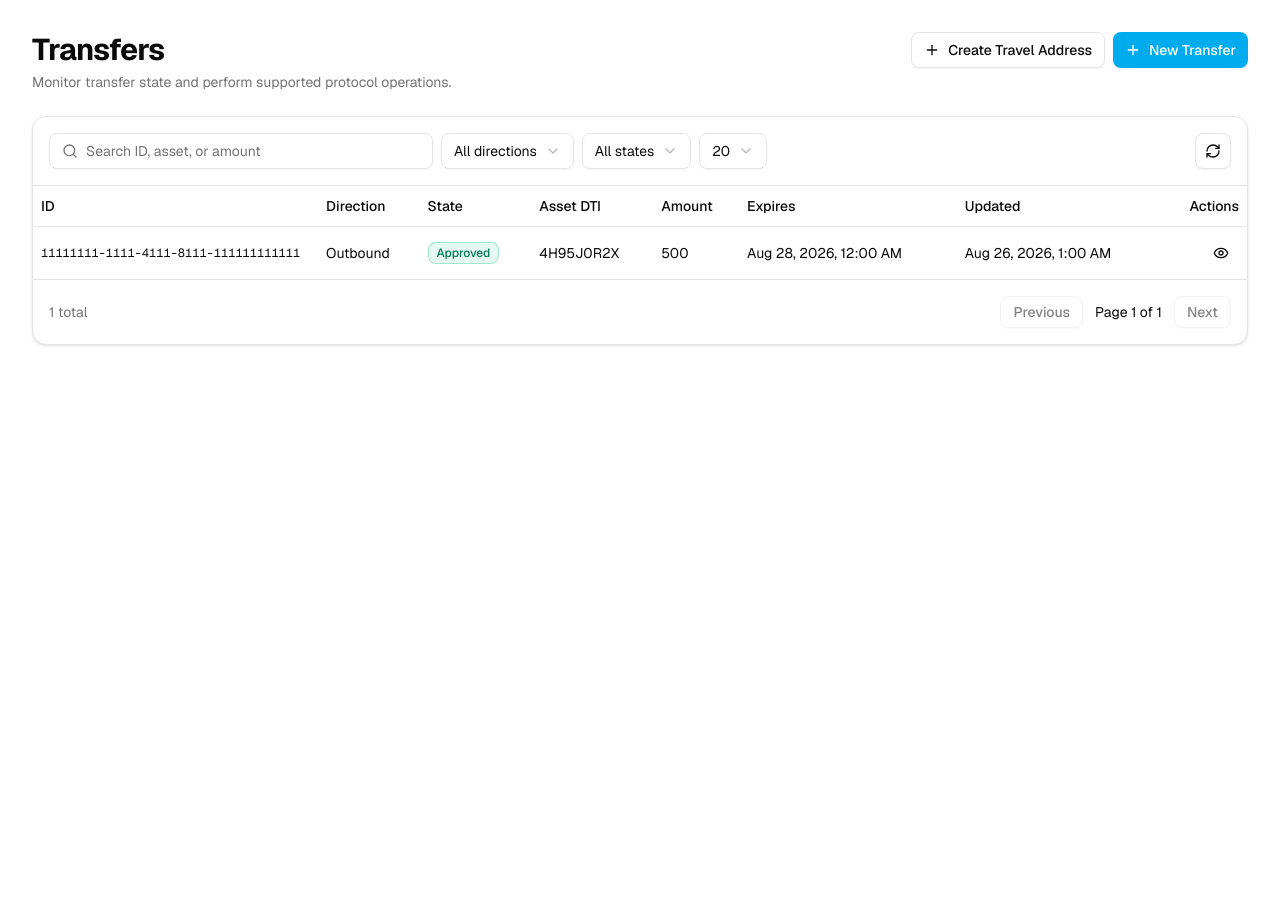
Test case: shows why an expired outbound transfer cannot use email fallback
Click the button named "View transfer 11111111-1111-4111-8111-111111111111": coordinates (1221, 252) top-left (1203, 234), bottom-right (1239, 270)
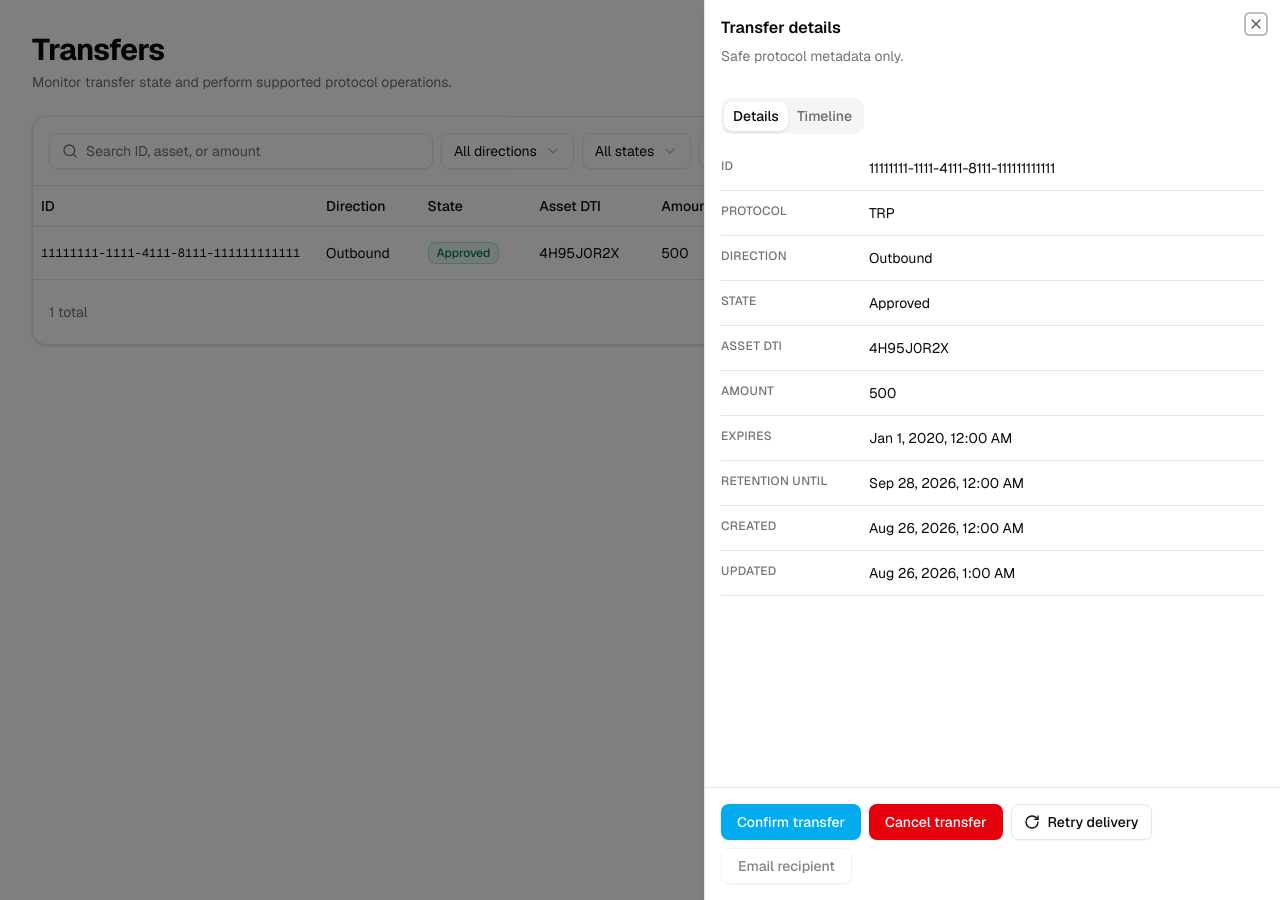
Now the button "Email recipient" is disabled, box top-left (721, 848), bottom-right (852, 884)
